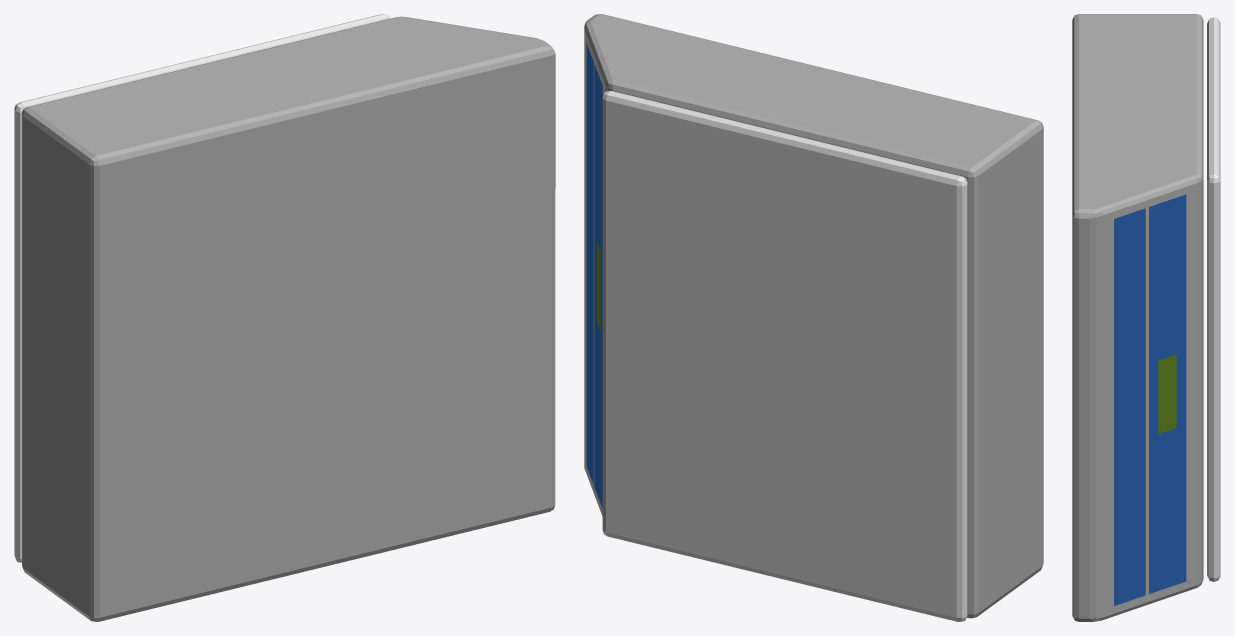
The picture shows the model from 3 angles, left to right: view 1: azimuth 30°, elevation 25°; view 2: azimuth 150°, elevation 25°; view 3: azimuth 270°, elevation 25°; orthographic projection. The views are drawn at different scales.
Parts seen in each view (by area): view 1: Cube.001; view 2: Cube.001; view 3: Cube.001.
Boxes of the visible parts, box(x1,y1,x2,y2) form: Cube.001: box(14, 14, 555, 621); Cube.001: box(584, 14, 1043, 621); Cube.001: box(1072, 14, 1220, 621).
Bounding box in the file's own units: 23.52 × 22.5 × 7.35.
